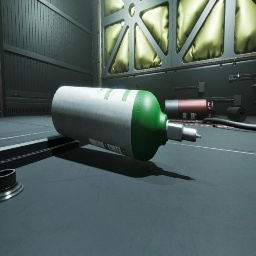0: (51, 86, 201, 162)
NitrogenTank ,: (165, 99, 214, 120)
